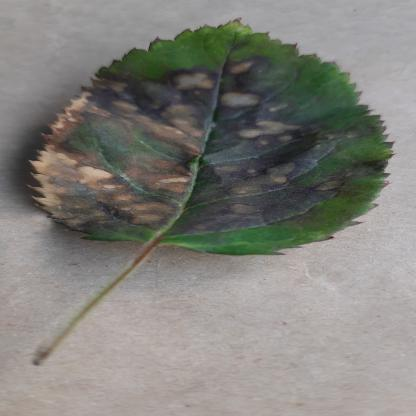powdery-mildew: (18, 18, 399, 258)
